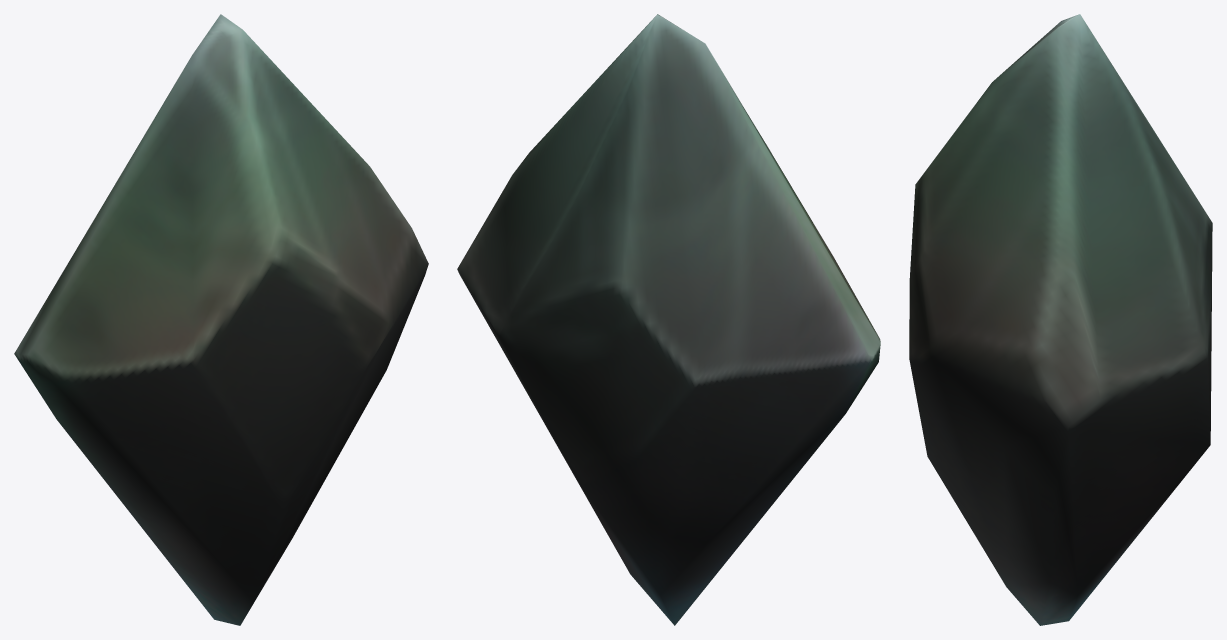
Rendered from SM_Gem_BlackQuartz_Piece_002.fbx.
3 renders of one model, left to right at view 1: azimuth 30°, elevation 25°; view 2: azimuth 150°, elevation 25°; view 3: azimuth 270°, elevation 25°, orthographic. The views are drawn at different scales.
Visible parts, largest first — view 1: SM_Gem_BlackQuartz_Piece_002; view 2: SM_Gem_BlackQuartz_Piece_002; view 3: SM_Gem_BlackQuartz_Piece_002.
Part boxes in pixels (x1,y1,x2,y2): SM_Gem_BlackQuartz_Piece_002: (14,14,428,625); SM_Gem_BlackQuartz_Piece_002: (457,14,880,625); SM_Gem_BlackQuartz_Piece_002: (909,14,1212,625).
Size of the model in its own units: 13.71 by 19.28 by 8.64.
